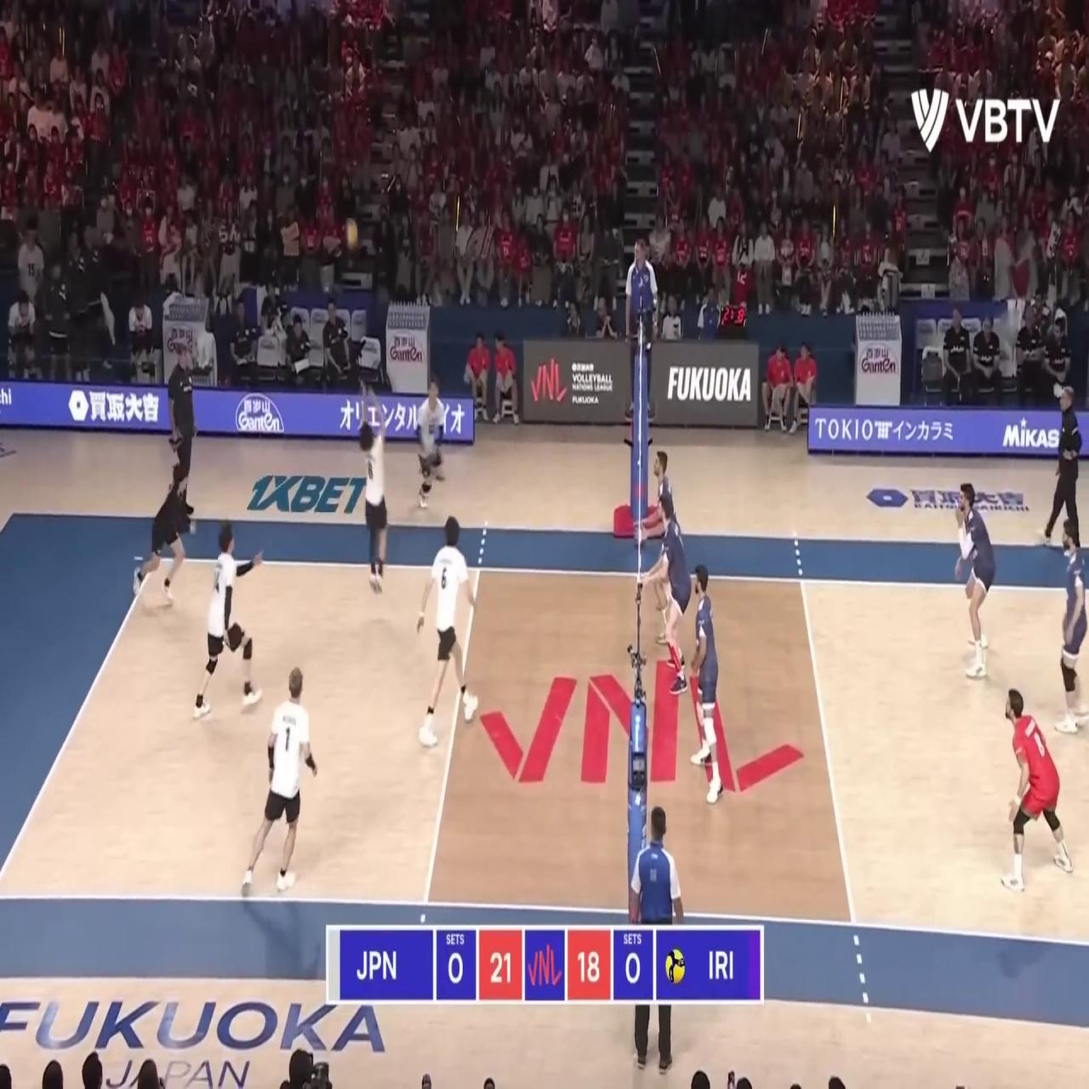ball: (345, 220, 357, 247)
